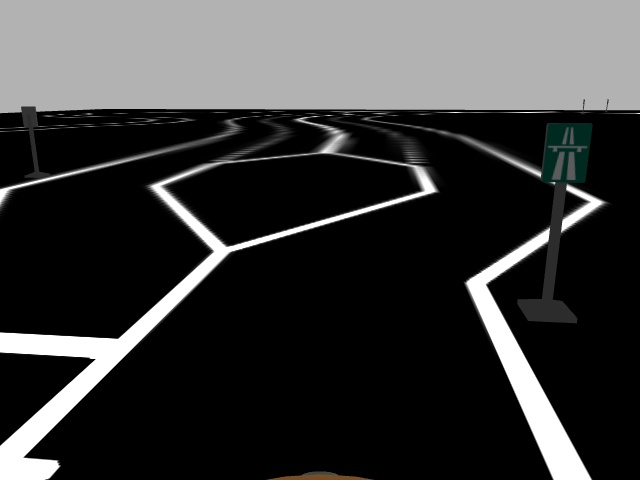enter_highway: (538, 122, 594, 185)
